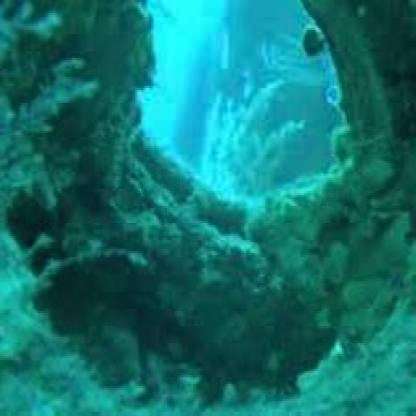tire: (2, 2, 395, 305)
